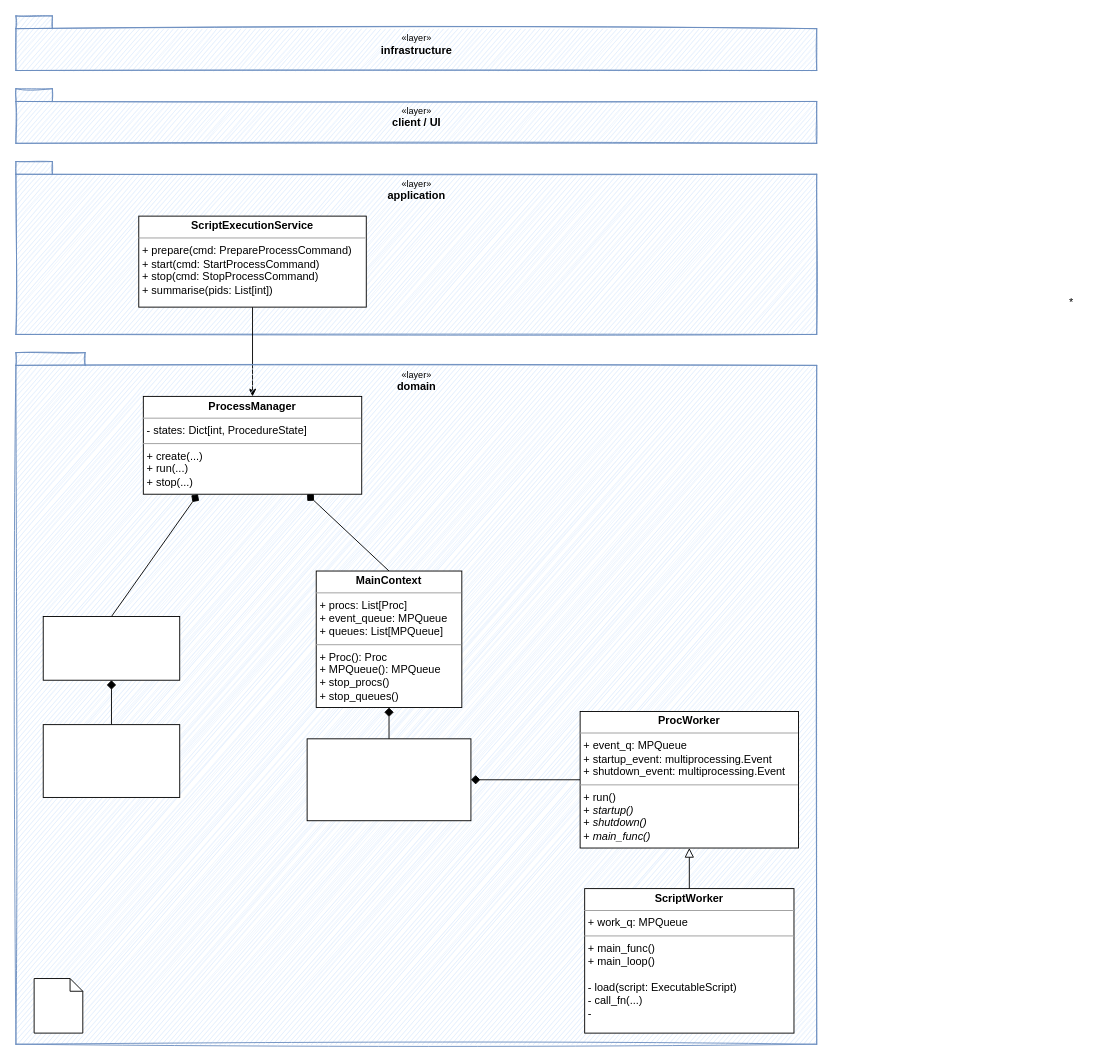
The diagram is 1115 pixels wide and 1060 high, and some of its shapes have lost their labels. Here are the shapes that lost their labels. From the top down, the centre of each, then its label:
At point 111,648: "EnvironmentManager + create_env(...) + delete_env(...)".
At point 111,760: "Environment + env_id: str + site_packages: str ...".
At point 388,779: "Proc + proc: ProcWorker + full_stop() + terminate()".
At point 58,1005: "notation: UML".
